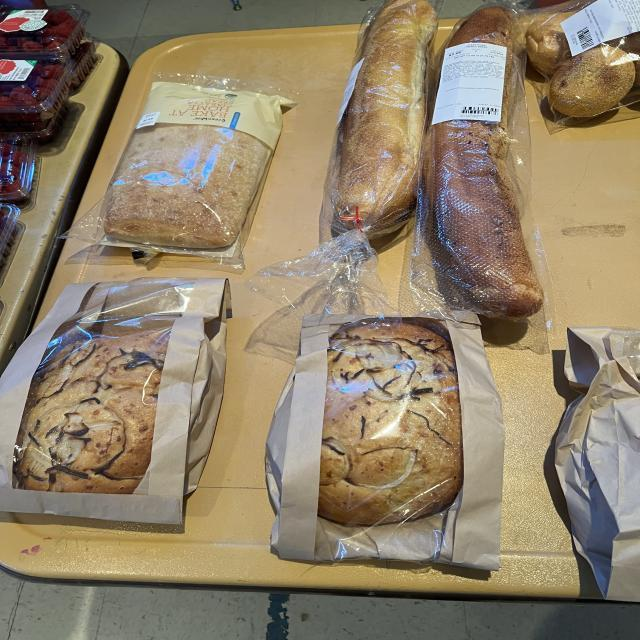Bread: (247, 0, 437, 361), (267, 315, 505, 570), (0, 278, 230, 524), (410, 1, 548, 352), (68, 75, 295, 268), (555, 326, 640, 601), (525, 0, 640, 132)
Raspberries: (0, 52, 73, 142), (0, 4, 90, 58), (0, 136, 35, 201), (70, 34, 98, 90), (0, 204, 20, 258)
